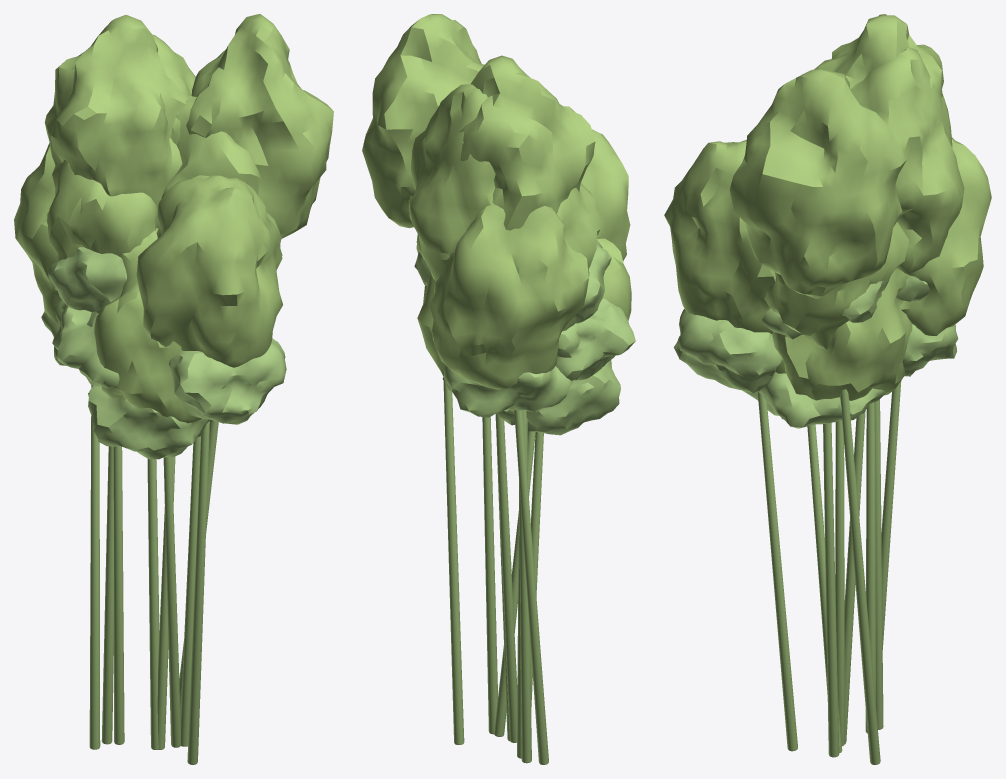
Rendered from take.glb.
The picture shows the model from 3 angles, left to right: view 1: azimuth 30°, elevation 25°; view 2: azimuth 150°, elevation 25°; view 3: azimuth 270°, elevation 25°; orthographic projection. The views are drawn at different scales.
Parts seen in each view (by area): view 1: take; view 2: take; view 3: take.
Part boxes in pixels (x1=…): take: x1=14, y1=14, x2=333, y2=764; take: x1=362, y1=14, x2=635, y2=764; take: x1=664, y1=14, x2=991, y2=764.
Bounding box in the file's own units: 3.37 × 9.02 × 3.7.
